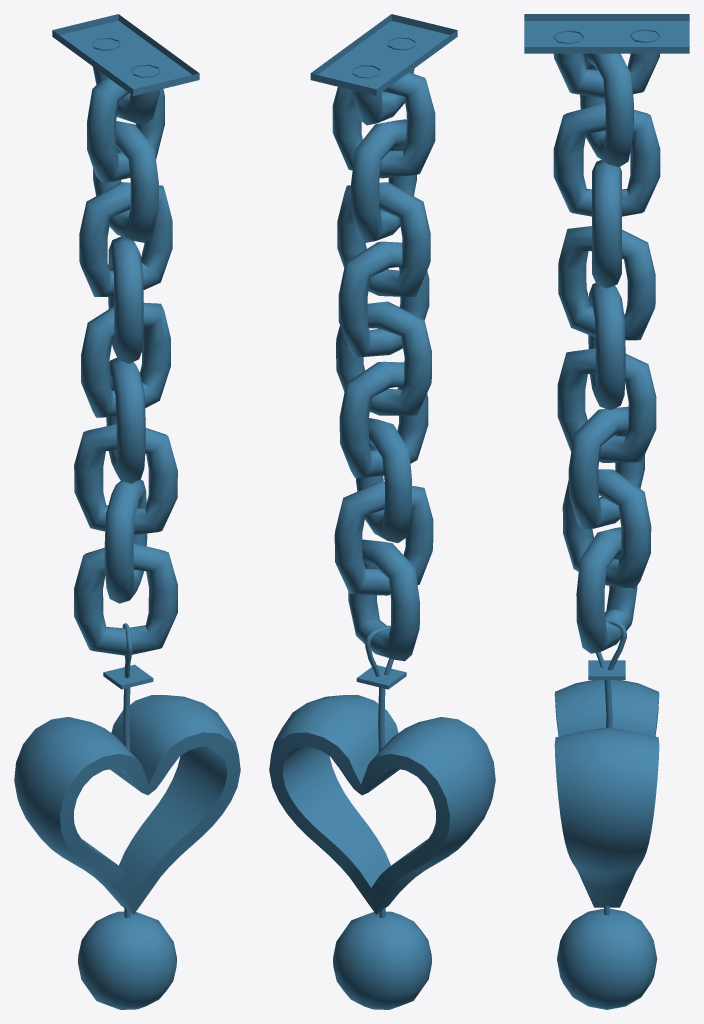
File: Mesh_ColganteCorazon_v001.fbx
3 renders of one model, left to right at view 1: azimuth 30°, elevation 25°; view 2: azimuth 150°, elevation 25°; view 3: azimuth 270°, elevation 25°, orthographic. The views are drawn at different scales.
Parts seen in each view (by area): view 1: Mesh_ColganteCorazon_v001; view 2: Mesh_ColganteCorazon_v001; view 3: Mesh_ColganteCorazon_v001.
Boxes of the visible parts, x1,y1,x2,y2 form: Mesh_ColganteCorazon_v001: [14, 14, 240, 1009]; Mesh_ColganteCorazon_v001: [269, 14, 495, 1009]; Mesh_ColganteCorazon_v001: [524, 14, 689, 1009].
Size of the model in its own units: 1.07 by 4.81 by 0.74.
